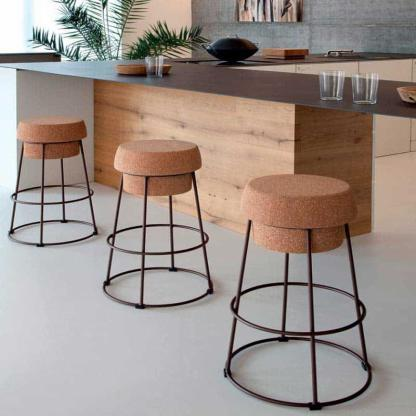chair: (222, 168, 379, 414), (103, 128, 213, 316), (8, 108, 94, 259)
table: (0, 57, 416, 241)
